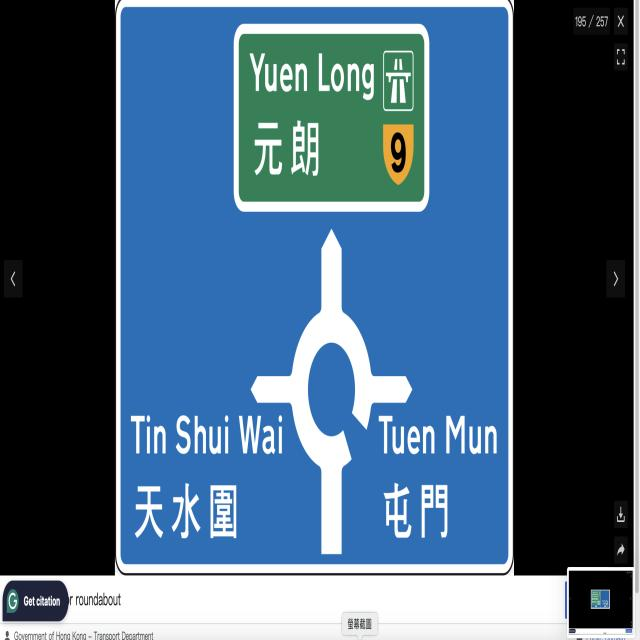Direction-Sign: (118, 0, 510, 570)
